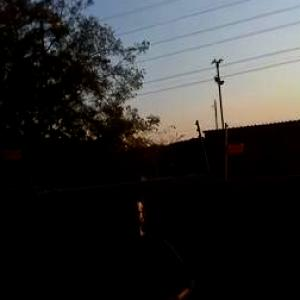follow: (94, 171, 202, 299)
